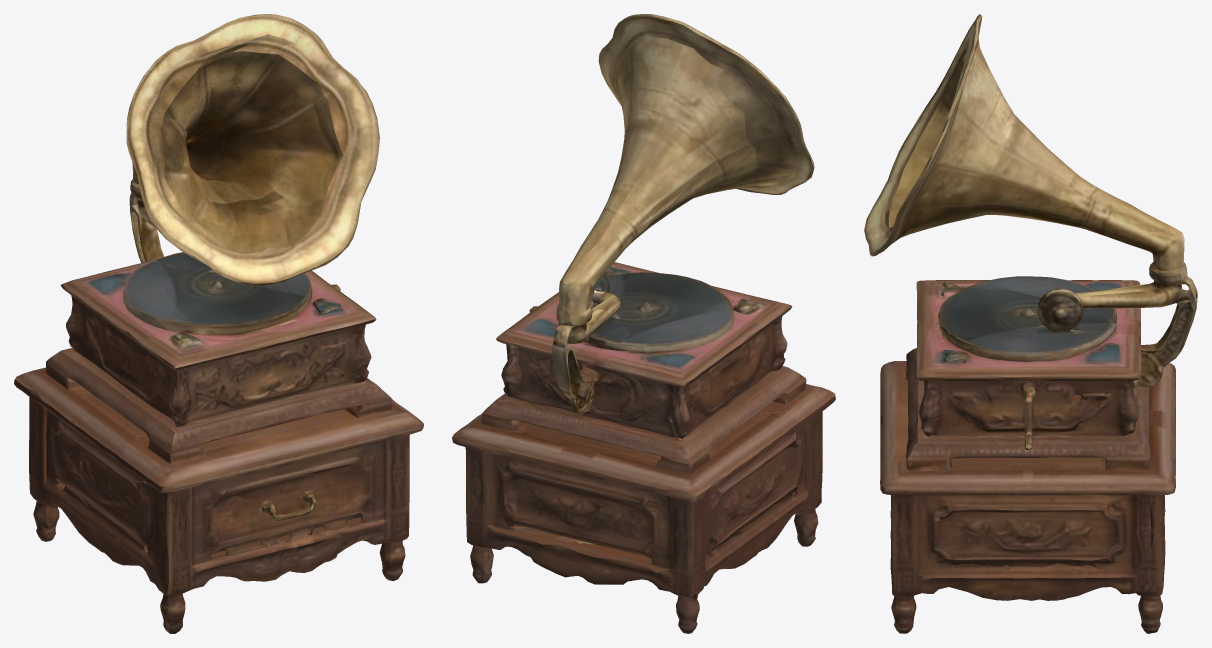
The model's file is gramophone.glb.
3 renders of one model, left to right at view 1: azimuth 30°, elevation 25°; view 2: azimuth 150°, elevation 25°; view 3: azimuth 270°, elevation 25°, orthographic. The views are drawn at different scales.
Visible parts, largest first — view 1: geometry_0; view 2: geometry_0; view 3: geometry_0.
Boxes of the visible parts, box(x1,y1,x2,y2) form: geometry_0: box(14, 14, 423, 633); geometry_0: box(452, 14, 835, 633); geometry_0: box(864, 14, 1197, 633).
Bounding box in the file's own units: 0.3204 × 0.62 × 0.3423.
1 material, 1 textured.
